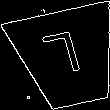L_S: (44, 30, 91, 86)
